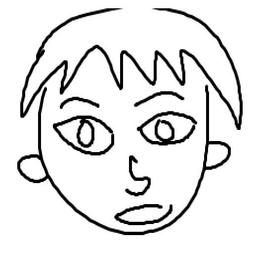ear: (10, 145, 48, 190), (201, 137, 232, 171)
eye: (50, 114, 117, 158), (132, 111, 200, 147)
eyebrow: (130, 87, 188, 110), (58, 95, 101, 110)
nose: (120, 153, 154, 197)
open_mouth: (112, 202, 176, 227)
